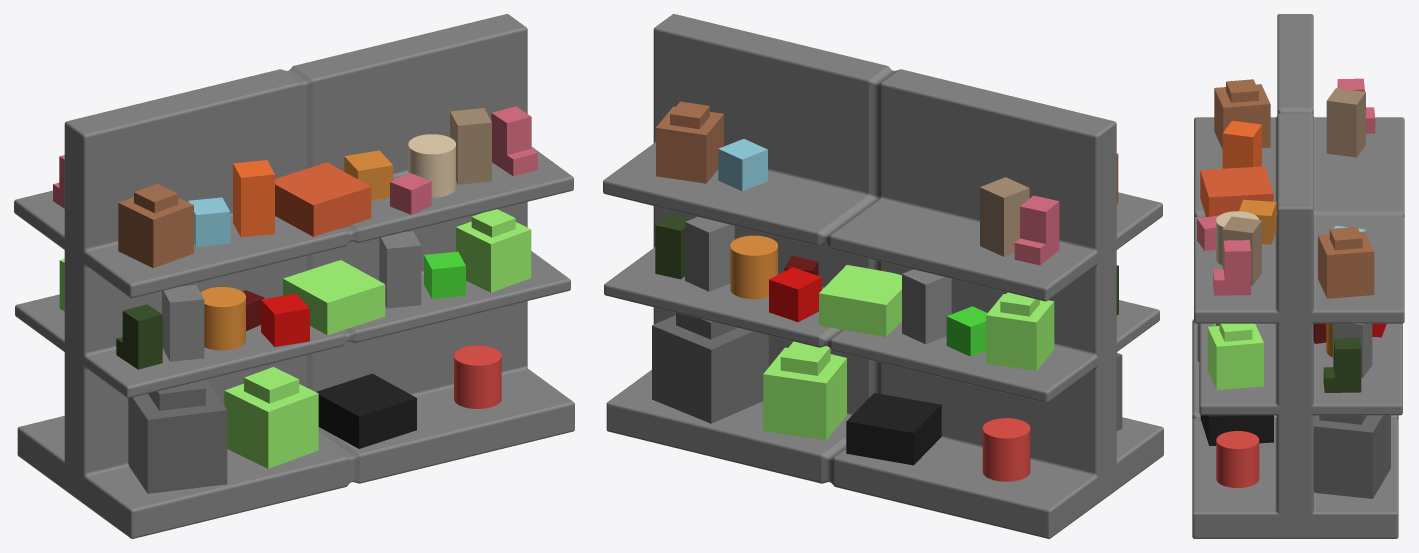
Rendered from Shelf_With_Space_Model.fbx.
3 views of the same model, side by side, from view 1: azimuth 30°, elevation 25°; view 2: azimuth 150°, elevation 25°; view 3: azimuth 270°, elevation 25° (orthographic). The views are drawn at different scales.
Visible parts, largest first — view 1: Cube.008, Cube.029, Cube.028, Cube.030, Cube.043, Cube.046, Cube.035, Cube.038, Cube.032, Cube.044, Cube.036, Cylinder.007 (+10 smaller); view 2: Cube.008, Cube.026, Cube.027, Cube.025, Cube.020, Cube.009, Cube.017, Cube.019, Cube.023, Cube.015, Cylinder.006, Cylinder.005 (+5 smaller); view 3: Cube.008, Cube.026, Cube.009, Cube.038, Cube.043, Cube.046, Cube.015, Cylinder.007, Cube.039, Cube.024, Cube.044, Cube.030 (+7 smaller).
Part boxes in pixels (left/top/right/bottom): Cube.008: left=14, top=14, right=574, bottom=538; Cube.029: left=128, top=379, right=227, bottom=493; Cube.028: left=224, top=367, right=318, bottom=468; Cube.030: left=316, top=373, right=416, bottom=448; Cube.043: left=275, top=162, right=371, bottom=236; Cube.046: left=118, top=183, right=193, bottom=268; Cube.035: left=283, top=260, right=385, bottom=335; Cube.038: left=456, top=209, right=531, bottom=292; Cube.032: left=162, top=285, right=204, bottom=361; Cube.044: left=233, top=160, right=274, bottom=237; Cube.036: left=379, top=231, right=421, bottom=308; Cylinder.007: left=454, top=345, right=501, bottom=408; Cube.008: left=603, top=14, right=1163, bottom=538; Cube.026: left=652, top=313, right=768, bottom=423; Cube.027: left=763, top=341, right=846, bottom=440; Cube.025: left=846, top=393, right=941, bottom=465; Cube.020: left=819, top=265, right=901, bottom=337; Cube.009: left=656, top=101, right=723, bottom=183; Cube.017: left=986, top=292, right=1054, bottom=370; Cube.019: left=902, top=269, right=951, bottom=344; Cube.023: left=685, top=217, right=734, bottom=291; Cube.015: left=980, top=177, right=1029, bottom=256; Cylinder.006: left=982, top=418, right=1030, bottom=481; Cylinder.005: left=730, top=235, right=777, bottom=299; Cube.008: left=1192, top=14, right=1404, bottom=538; Cube.026: left=1313, top=415, right=1390, bottom=498; Cube.009: left=1318, top=226, right=1374, bottom=298; Cube.038: left=1207, top=323, right=1263, bottom=390; Cube.043: left=1200, top=166, right=1273, bottom=216; Cube.046: left=1214, top=79, right=1270, bottom=149; Cube.015: left=1326, top=88, right=1365, bottom=157; Cylinder.007: left=1216, top=431, right=1259, bottom=487; Cube.039: left=1213, top=240, right=1250, bottom=295; Cube.024: left=1323, top=338, right=1361, bottom=392; Cube.044: left=1222, top=120, right=1261, bottom=168; Cube.030: left=1200, top=415, right=1273, bottom=446.
Bounding box in the file's own units: 1012 × 805 × 467.
